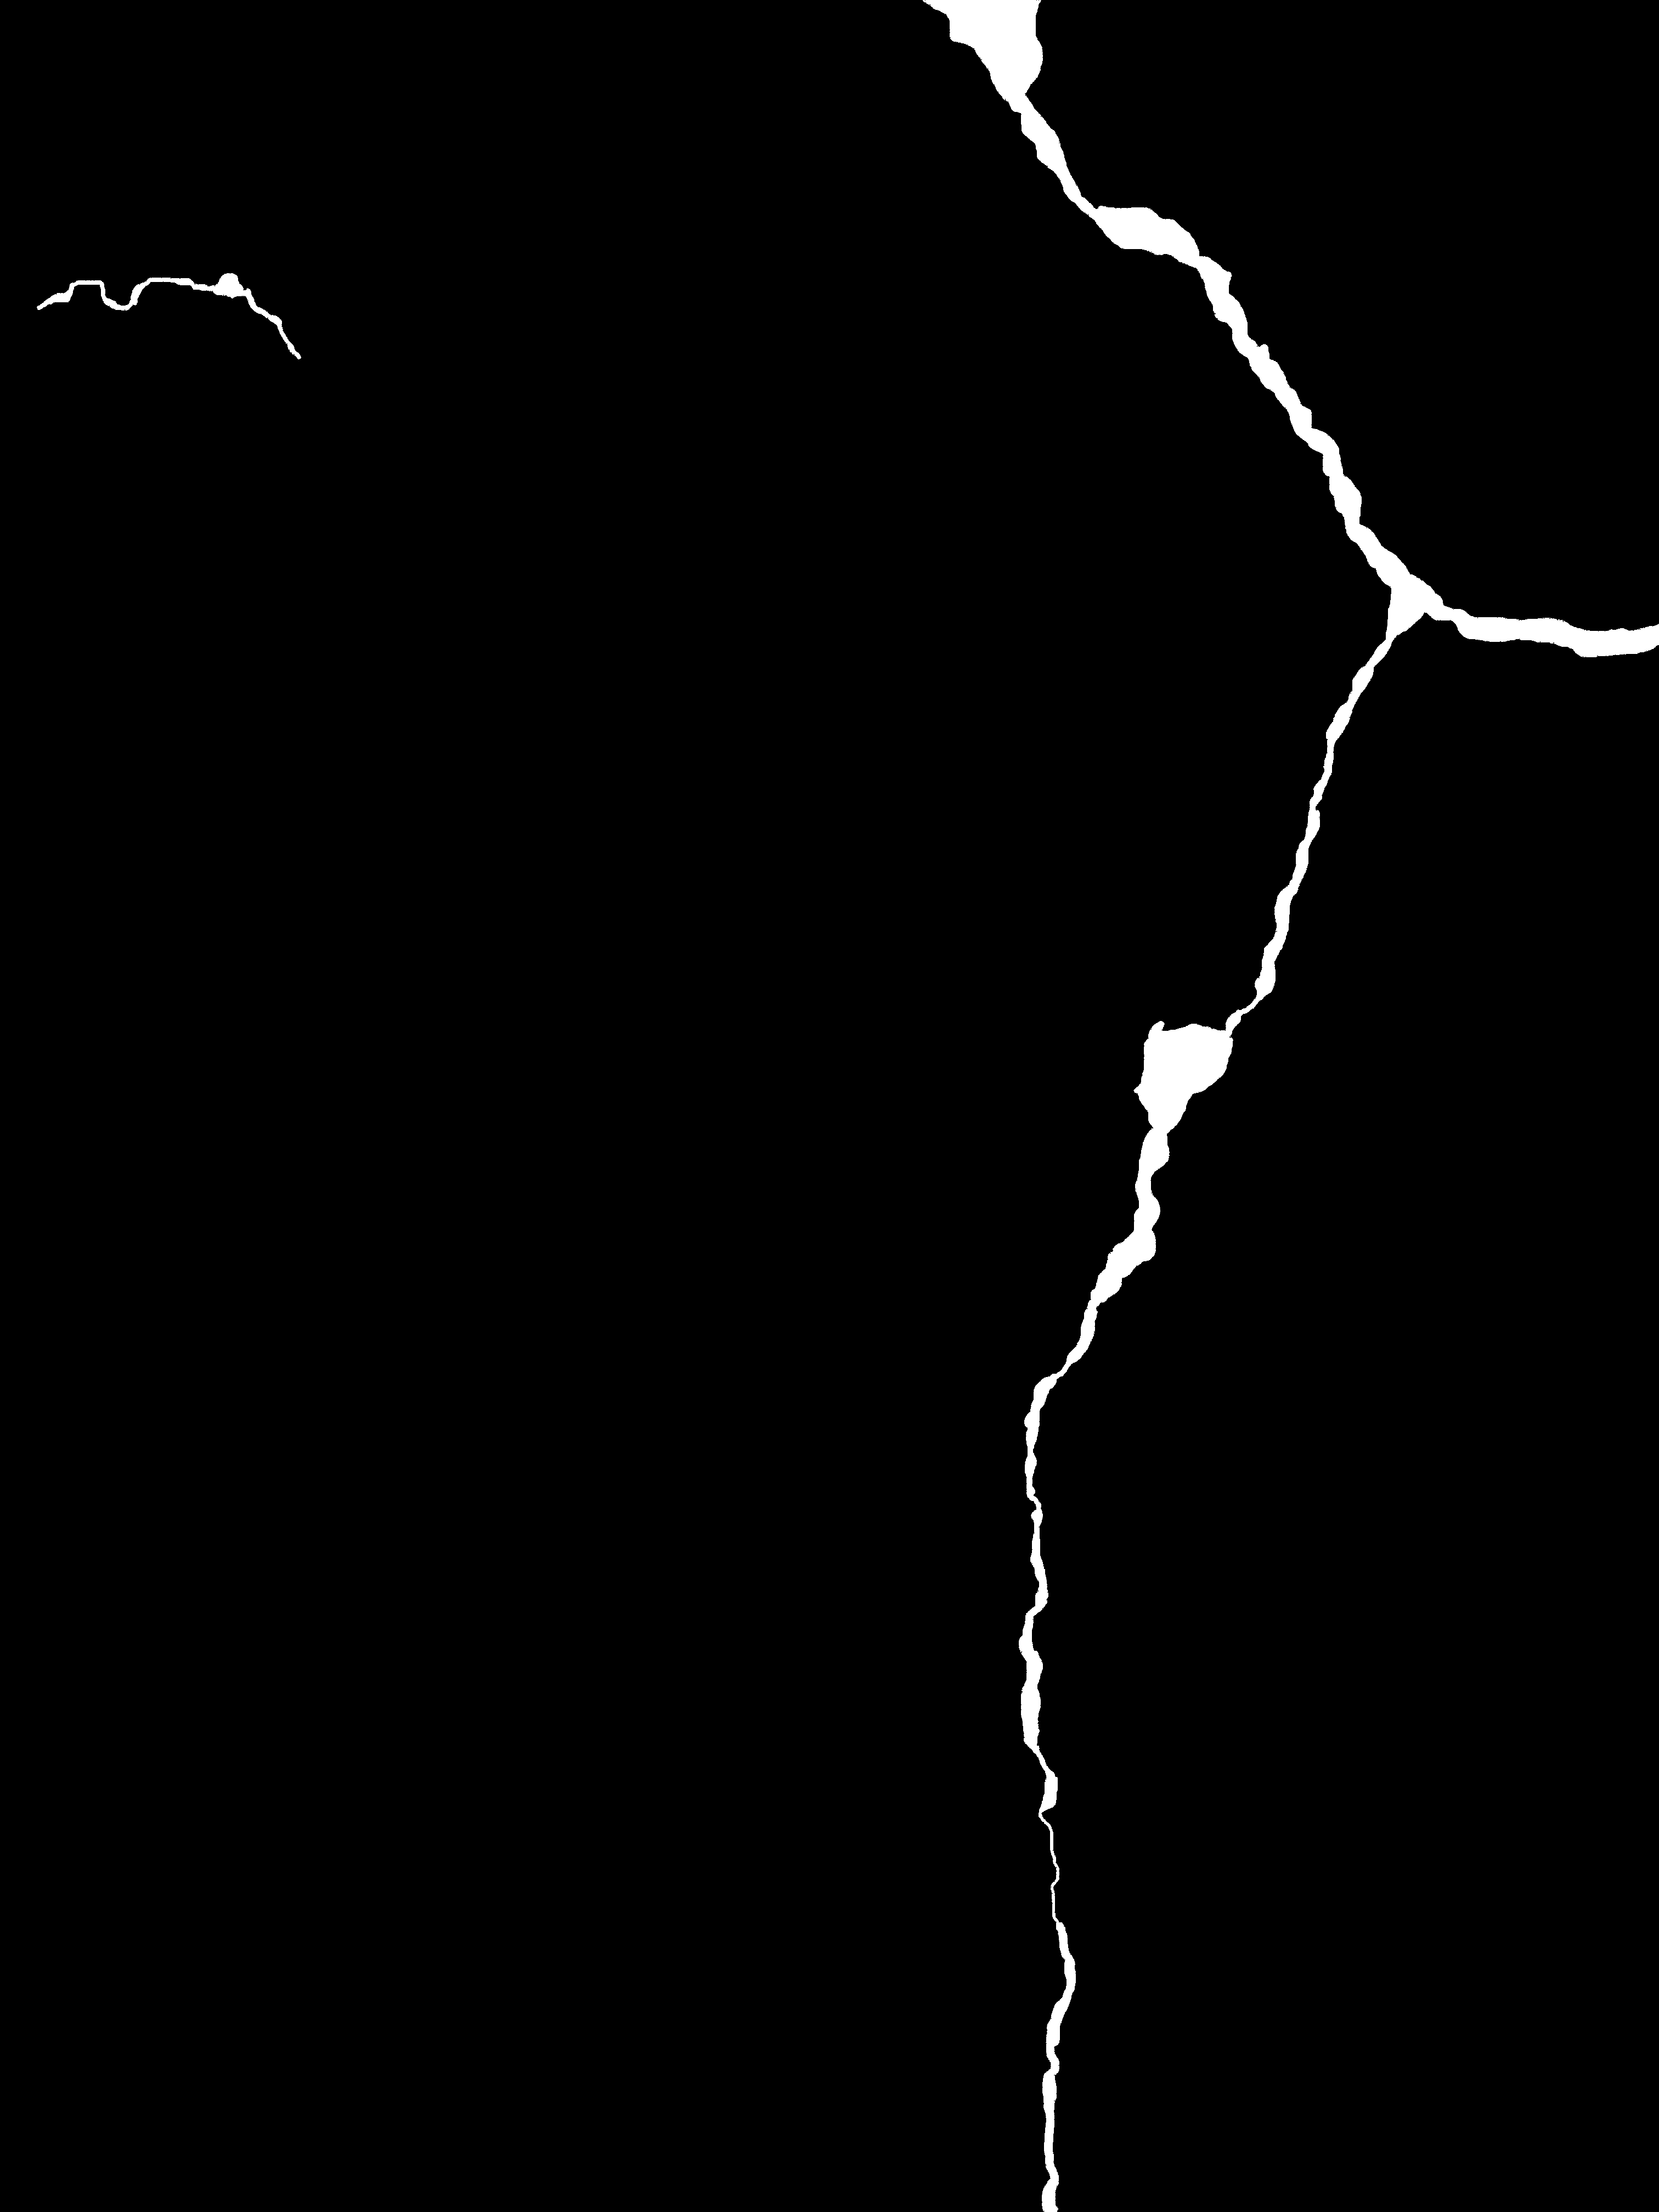Crack: (924, 0, 1659, 2212), (0, 251, 322, 401)
